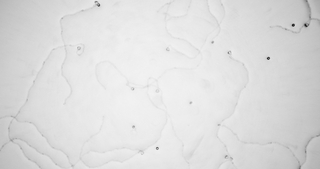germinated: (226, 49, 234, 60), (303, 19, 312, 28), (224, 153, 232, 161), (75, 45, 81, 55), (89, 0, 99, 6), (164, 44, 171, 52), (127, 84, 135, 91), (154, 84, 161, 92)
nongerminated: (154, 145, 162, 153), (265, 54, 271, 62), (291, 23, 297, 30), (187, 99, 193, 105), (130, 123, 136, 129)
